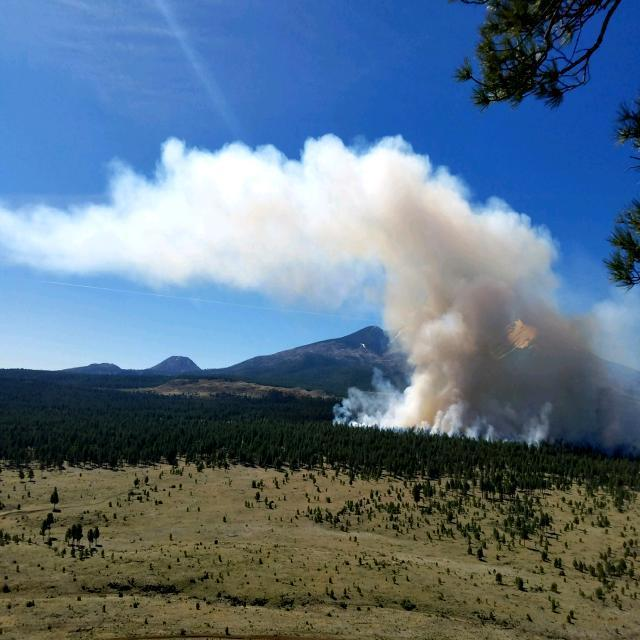Smoke: (267, 130, 633, 438)
